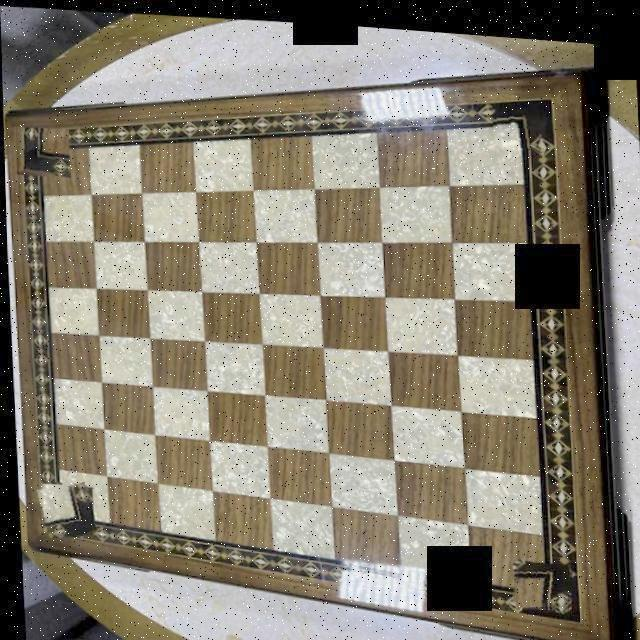chess-table-corners: (35, 480, 91, 538), (508, 552, 569, 605), (12, 125, 68, 177), (490, 95, 542, 148)
